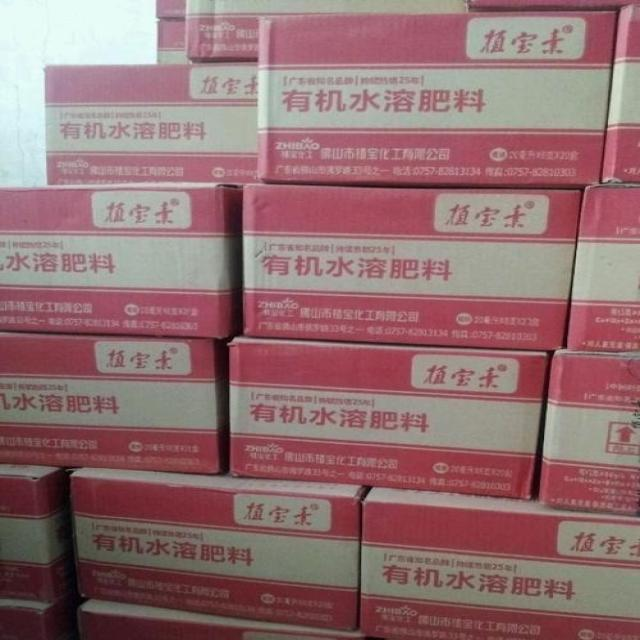box: (259, 9, 618, 189), (242, 182, 582, 350), (227, 332, 553, 500), (69, 467, 369, 631), (358, 485, 640, 639), (0, 183, 242, 340), (0, 331, 229, 474), (44, 62, 264, 185), (535, 348, 640, 516), (184, 0, 467, 62), (564, 184, 639, 353), (73, 597, 367, 640), (1, 463, 74, 603), (602, 2, 640, 185), (0, 591, 76, 640), (466, 0, 640, 12), (156, 19, 192, 63), (156, 0, 186, 19)
